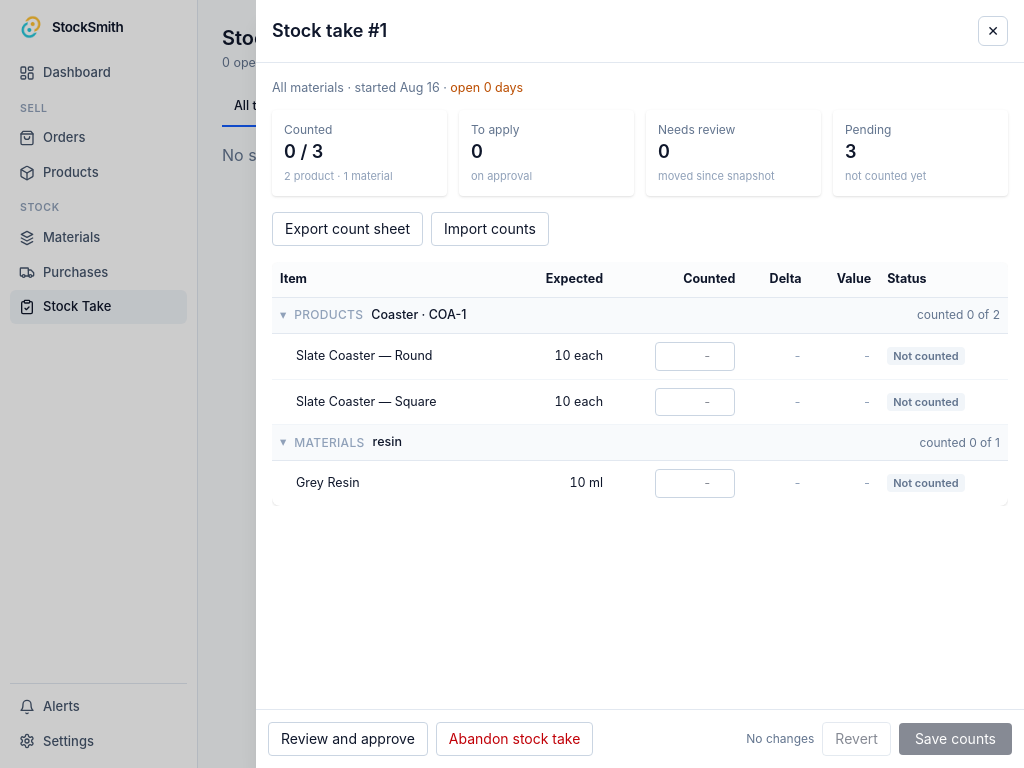
it: grouping › puts a heading above each group, and hides its rows when collapsed
expect the heading "Stock take #1" is shown: met, box [272,17,387,45]
expect the text "Coaster · COA-1" is shown: met, box [371,306,466,325]
Click the button "▾ Products Coaster · COA-1 counted 0 of 2" at [329, 315], box [280,306,1000,325]
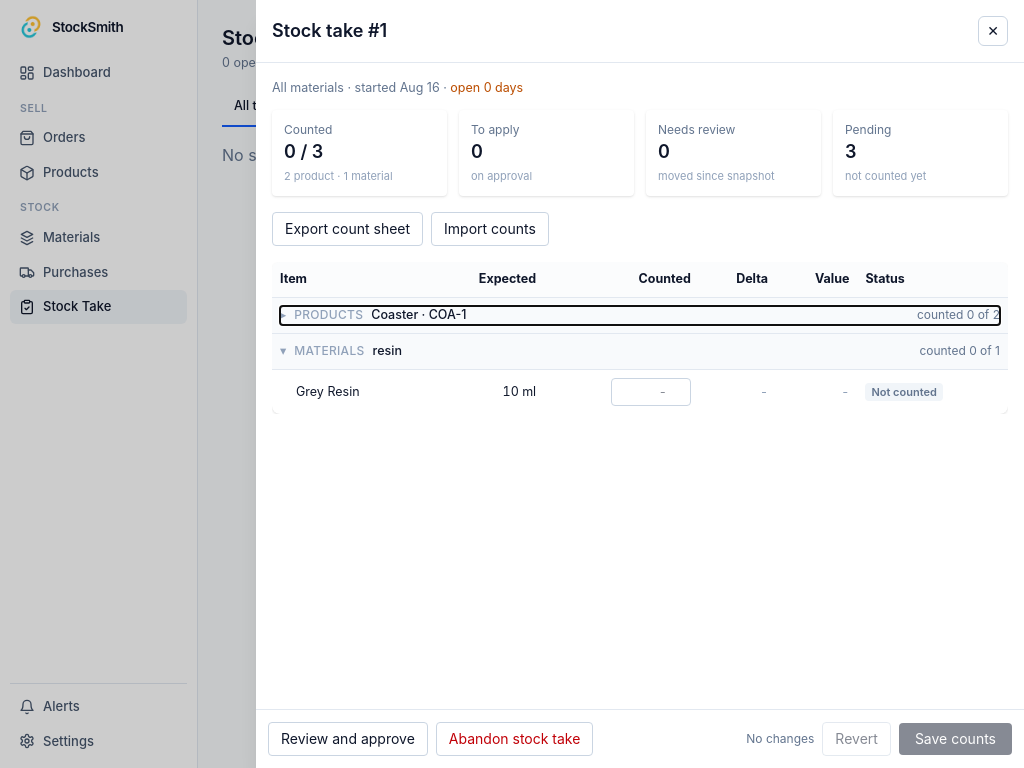
expect the text "Grey Resin" is shown: met, box [272,369,426,414]
expect the text "Slate Coaster — Round" is gone: met
